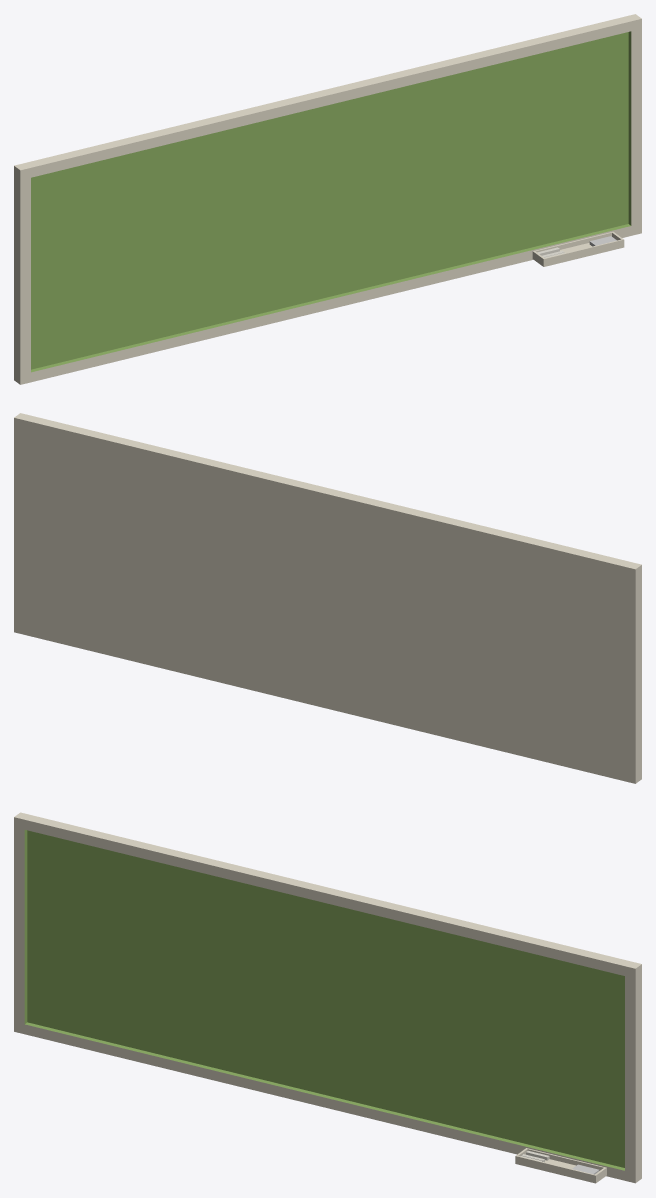
File: board.fbx
The picture shows the model from 3 angles, top to bottom: view 1: azimuth 30°, elevation 25°; view 2: azimuth 150°, elevation 25°; view 3: azimuth 330°, elevation 25°; orthographic projection.
Visible parts, largest first — view 1: Cube_4; view 2: Cube_4; view 3: Cube_4.
Part boxes in pixels (x1=…): Cube_4: x1=14, y1=14, x2=641, y2=384; Cube_4: x1=14, y1=413, x2=641, y2=783; Cube_4: x1=14, y1=812, x2=641, y2=1183.
Bounding box in the file's own units: 743 × 245 × 36.11.
